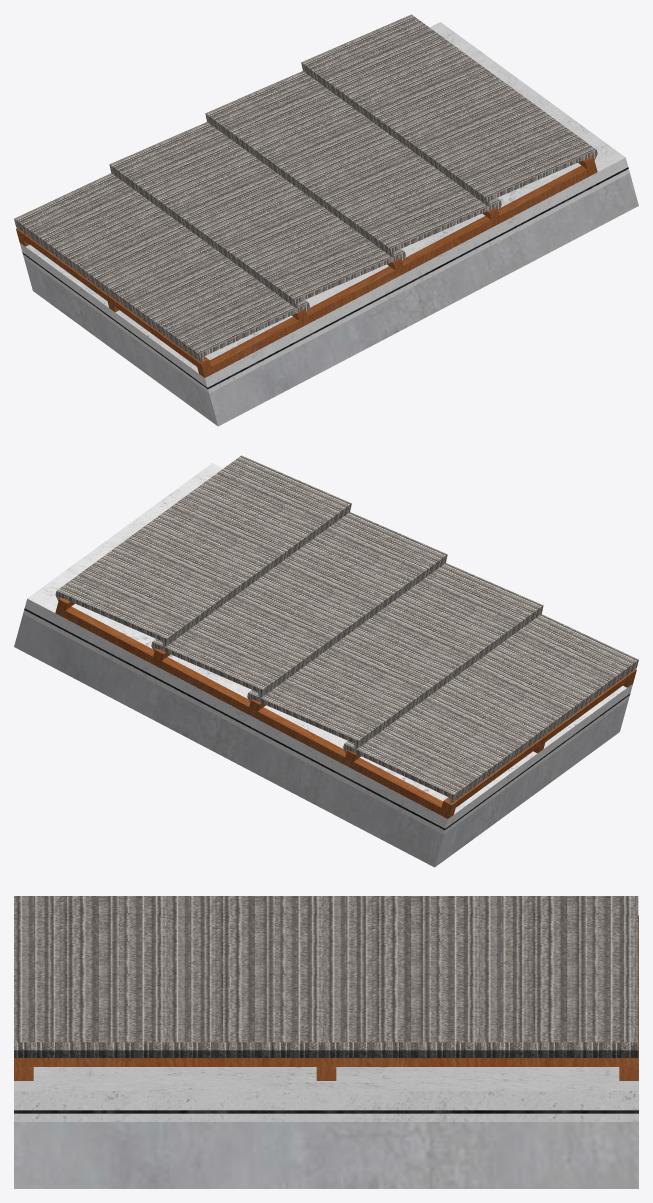
File: wood-batten-tile-roof.glb
The picture shows the model from 3 angles, top to bottom: view 1: azimuth 30°, elevation 25°; view 2: azimuth 150°, elevation 25°; view 3: azimuth 270°, elevation 25°; orthographic projection. The views are drawn at different scales.
Parts seen in each view (by area): view 1: 块瓦, 钢筋混凝土屋面板, C15细石混凝土找平层，厚 35mm（配φ6@500×500钢筋, 顺水条（35×25h，中距500）, 1：3水泥砂浆找平层 15mm, 挂瓦条（30×25，中距按瓦材规格）, 高聚物改性沥青防水卷材 3mm（或防水涂膜≥2mm; view 2: 块瓦, 钢筋混凝土屋面板, C15细石混凝土找平层，厚 35mm（配φ6@500×500钢筋, 顺水条（35×25h，中距500）, 1：3水泥砂浆找平层 15mm, 挂瓦条（30×25，中距按瓦材规格）, 高聚物改性沥青防水卷材 3mm（或防水涂膜≥2mm; view 3: 块瓦, 钢筋混凝土屋面板, C15细石混凝土找平层，厚 35mm（配φ6@500×500钢筋, 挂瓦条（30×25，中距按瓦材规格）, 1：3水泥砂浆找平层 15mm, 高聚物改性沥青防水卷材 3mm（或防水涂膜≥2mm, 顺水条（35×25h，中距500）.
Boxes of the visible parts, x1,y1,x2,y2 form: 块瓦: [14, 14, 597, 362]; 钢筋混凝土屋面板: [24, 173, 638, 426]; C15细石混凝土找平层，厚 35mm（配φ6@500×500钢筋: [20, 22, 628, 387]; 顺水条（35×25h，中距500）: [18, 165, 597, 377]; 1：3水泥砂浆找平层 15mm: [23, 169, 629, 393]; 挂瓦条（30×25，中距按瓦材规格）: [16, 157, 595, 370]; 高聚物改性沥青防水卷材 3mm（或防水涂膜≥2mm: [22, 167, 628, 389]; 块瓦: [55, 455, 638, 803]; 钢筋混凝土屋面板: [14, 614, 628, 867]; C15细石混凝土找平层，厚 35mm（配φ6@500×500钢筋: [24, 463, 632, 828]; 顺水条（35×25h，中距500）: [55, 606, 634, 818]; 1：3水泥砂浆找平层 15mm: [23, 610, 629, 834]; 挂瓦条（30×25，中距按瓦材规格）: [57, 597, 636, 811]; 高聚物改性沥青防水卷材 3mm（或防水涂膜≥2mm: [24, 608, 630, 830]; 块瓦: [14, 896, 638, 1057]; 钢筋混凝土屋面板: [14, 1122, 638, 1188]; C15细石混凝土找平层，厚 35mm（配φ6@500×500钢筋: [14, 1067, 638, 1110]; 挂瓦条（30×25，中距按瓦材规格）: [14, 915, 638, 1066]; 1：3水泥砂浆找平层 15mm: [14, 1113, 638, 1121]; 高聚物改性沥青防水卷材 3mm（或防水涂膜≥2mm: [14, 1110, 638, 1113]; 顺水条（35×25h，中距500）: [14, 932, 638, 1080].
Bounding box in the file's own units: 1.51 × 0.6064 × 1.11.
Materials: 7 (7 with a texture image).
